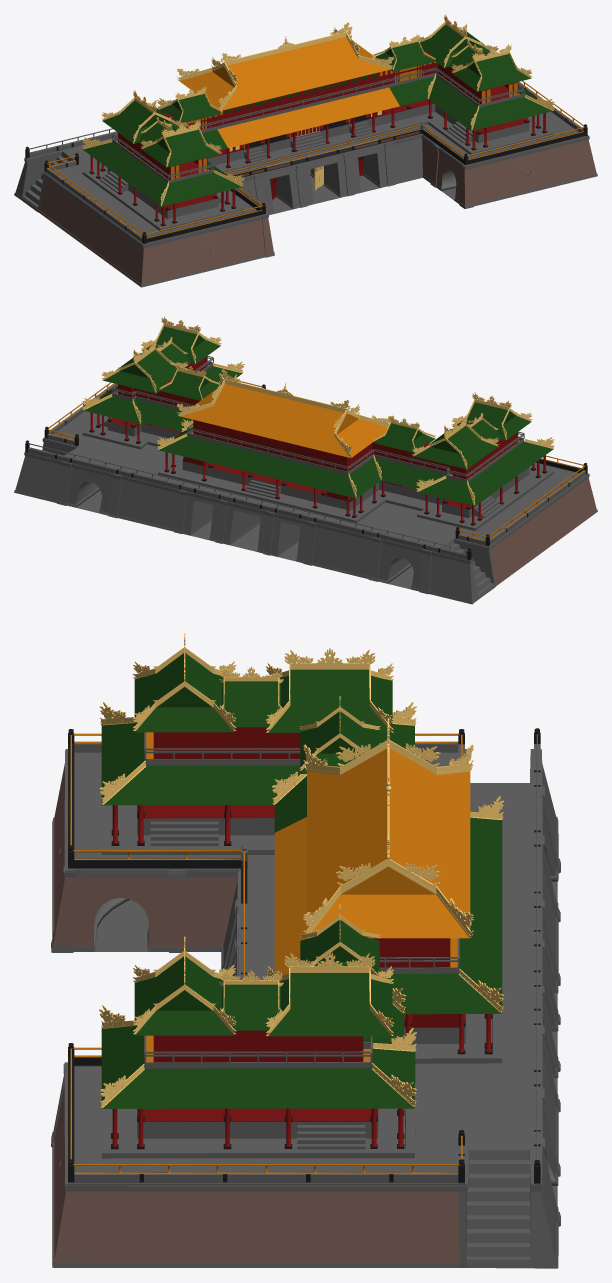
Rendered from ngo-mon.glb.
The picture shows the model from 3 angles, top to bottom: view 1: azimuth 30°, elevation 25°; view 2: azimuth 150°, elevation 25°; view 3: azimuth 270°, elevation 25°; orthographic projection. The views are drawn at different scales.
Parts seen in each view (by area): view 1: Cube, Cube.031, Cube.042, Cube.086, Cube.002, Cube.001, Cube.115, Cube.032, Cube.012, Cube.124, Cube.241, Cube.264 (+11 smaller); view 2: Cube, Cube.031, Cube.042, Cube.002, Cube.086, Cube.032, Cube.264, Cube.252, Cube.116, Cube.034, Cube.012, Cube.124 (+11 smaller); view 3: Cube, Cube.031, Cube.042, Cube.002, Cube.086, Cube.252, Cube.001, Cube.264, Cube.012, Cube.124, Cube.241, Cube.387 (+17 smaller).
Boxes of the visible parts, x1,y1,x2,y2 form: Cube: (14, 112, 597, 287); Cube.031: (83, 74, 552, 206); Cube.042: (212, 37, 390, 110); Cube.086: (118, 50, 518, 179); Cube.002: (92, 103, 543, 225); Cube.001: (42, 134, 589, 248); Cube.115: (47, 81, 584, 238); Cube.032: (112, 67, 524, 180); Cube.012: (164, 99, 528, 210); Cube.124: (142, 130, 220, 167); Cube.241: (452, 54, 530, 91); Cube.264: (102, 100, 179, 143); Cube: (14, 411, 597, 604); Cube.031: (83, 364, 553, 506); Cube.042: (180, 384, 358, 457); Cube.002: (93, 422, 544, 524); Cube.086: (118, 356, 518, 479); Cube.032: (112, 356, 524, 480); Cube.264: (414, 426, 497, 468); Cube.252: (102, 350, 186, 393); Cube.116: (28, 443, 467, 554); Cube.034: (112, 362, 523, 482); Cube.012: (108, 418, 471, 509); Cube.124: (453, 402, 530, 439); Cube: (51, 749, 560, 1268); Cube.031: (101, 723, 502, 1108); Cube.042: (307, 748, 470, 929); Cube.002: (111, 805, 492, 1149); Cube.086: (153, 727, 450, 1062); Cube.252: (267, 973, 392, 1036); Cube.001: (63, 749, 469, 1191); Cube.264: (267, 669, 392, 732); Cube.012: (137, 805, 465, 1121); Cube.124: (134, 653, 234, 732); Cube.241: (134, 956, 234, 1035); Cube.387: (307, 894, 469, 938).
Size of the model in its own units: 4.66 by 1.31 by 2.24.
